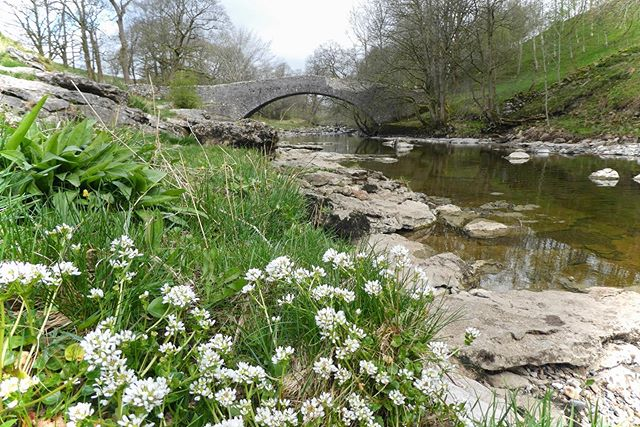bridge: (198, 65, 414, 145)
river: (324, 129, 640, 334)
tree: (372, 1, 518, 120)
vegetation: (1, 125, 340, 427)
